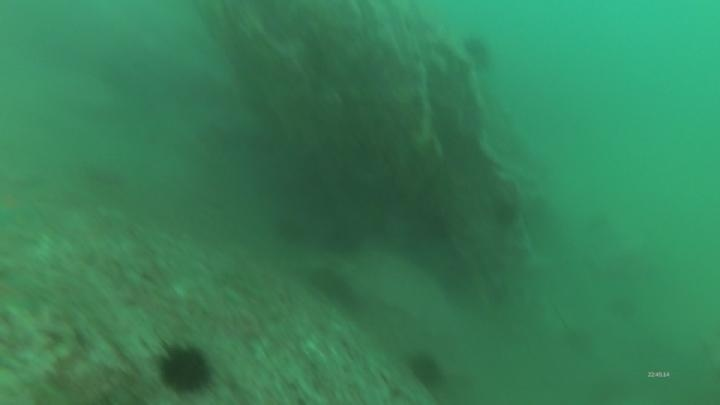echinus: (151, 339, 217, 398), (307, 265, 361, 310), (405, 349, 447, 391), (460, 33, 495, 73), (490, 198, 521, 230)
